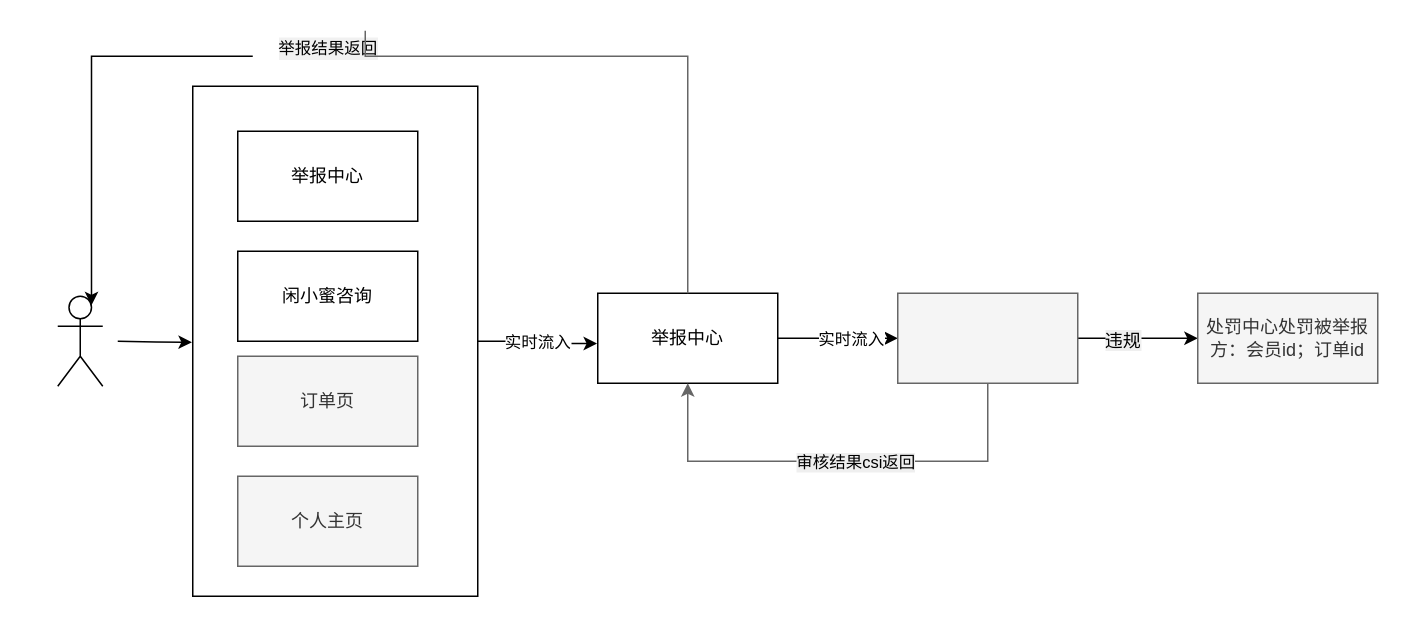
This 1404x623 diagram has some shape labels left out. The box of each missing label's shape, as (x1, y1, x2, y2) in pixels:
rcp审核: (896, 292, 1078, 383)
信息泄露举报: (56, 295, 103, 386)
